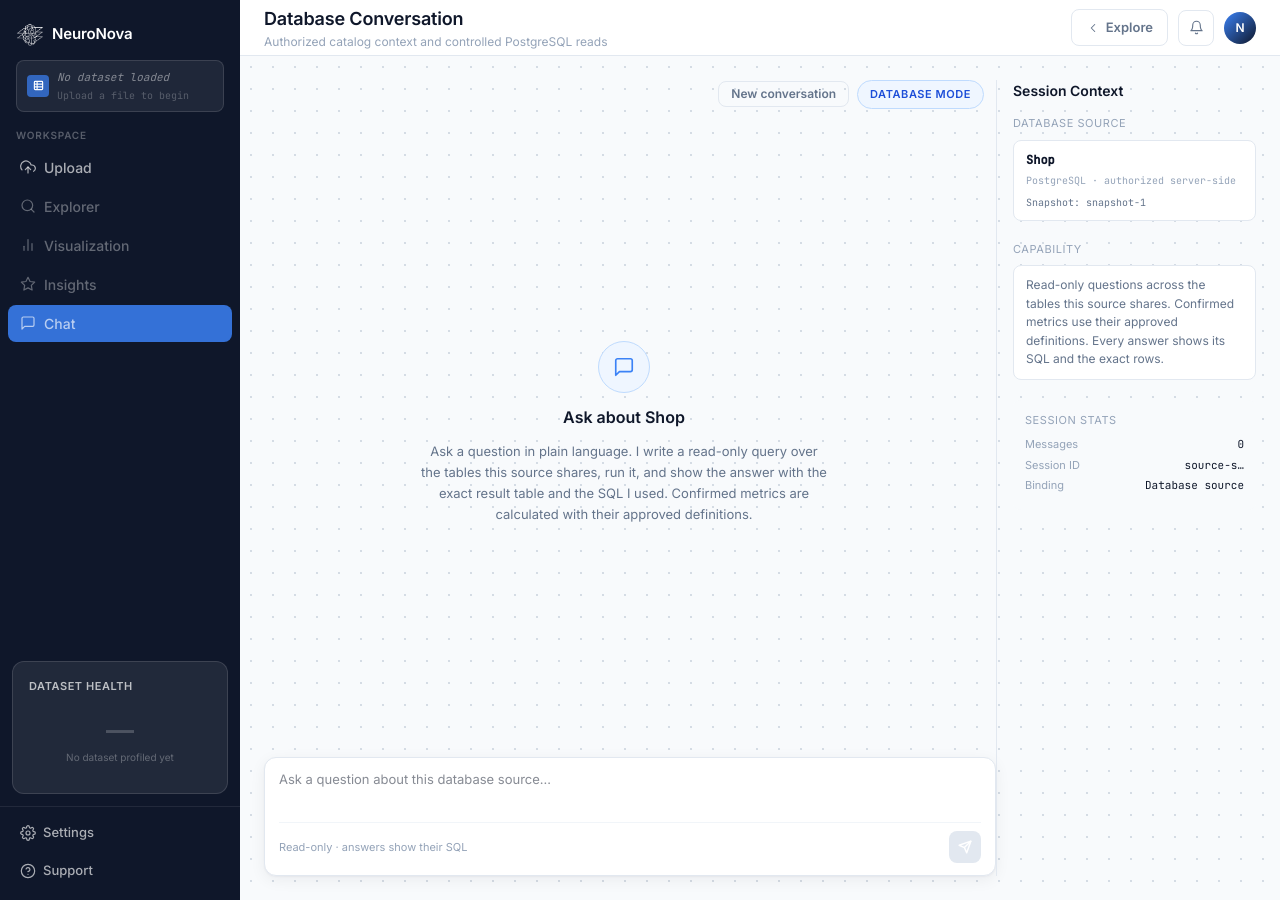
it: keeps what the user typed meanwhile, and typing dismisses the notice (W6.7)
Type "first" into the text box named "Database question" at (630, 790), box top-left (279, 770), bottom-right (981, 809)
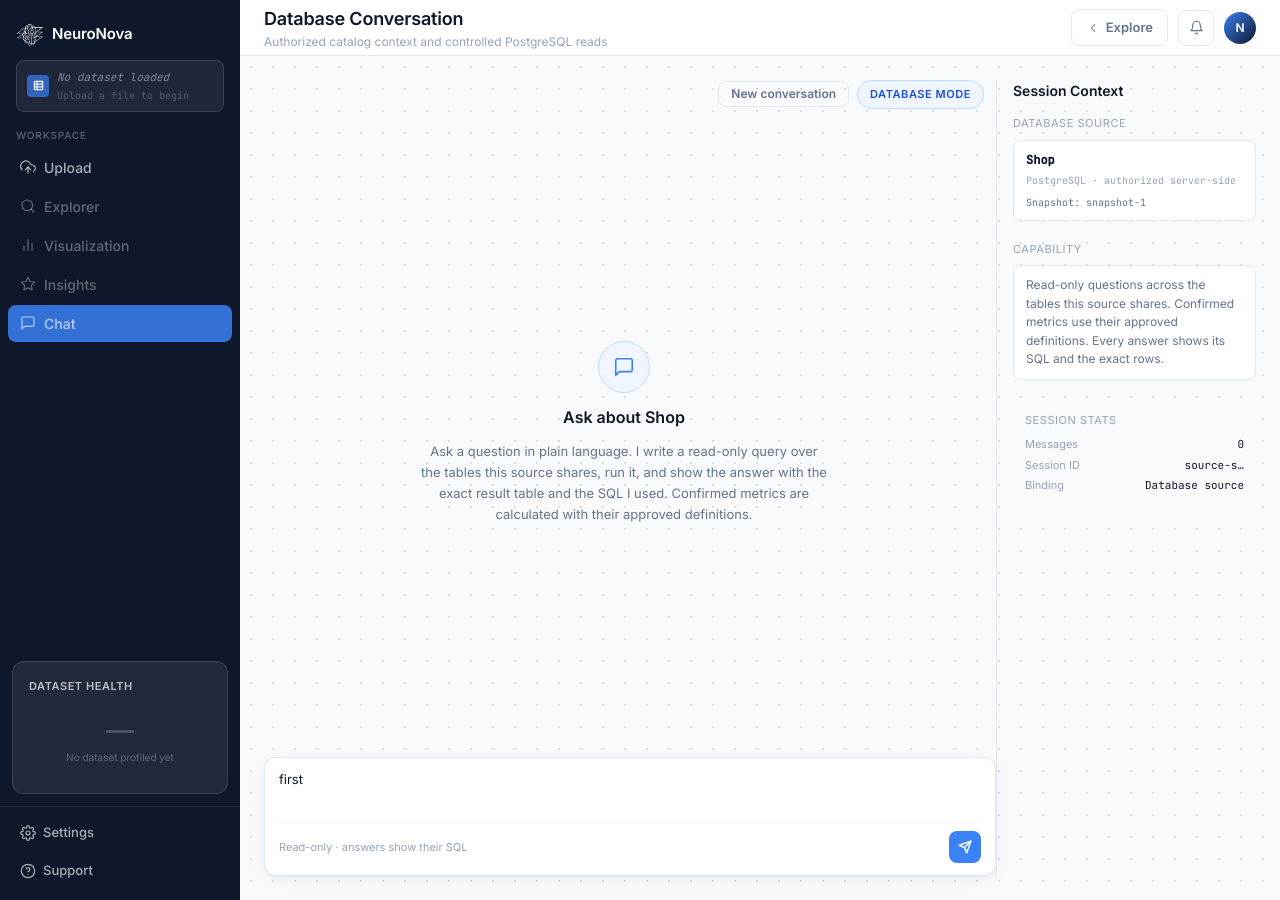
Click the button named "Send database question" at (965, 847), box top-left (949, 831), bottom-right (981, 863)
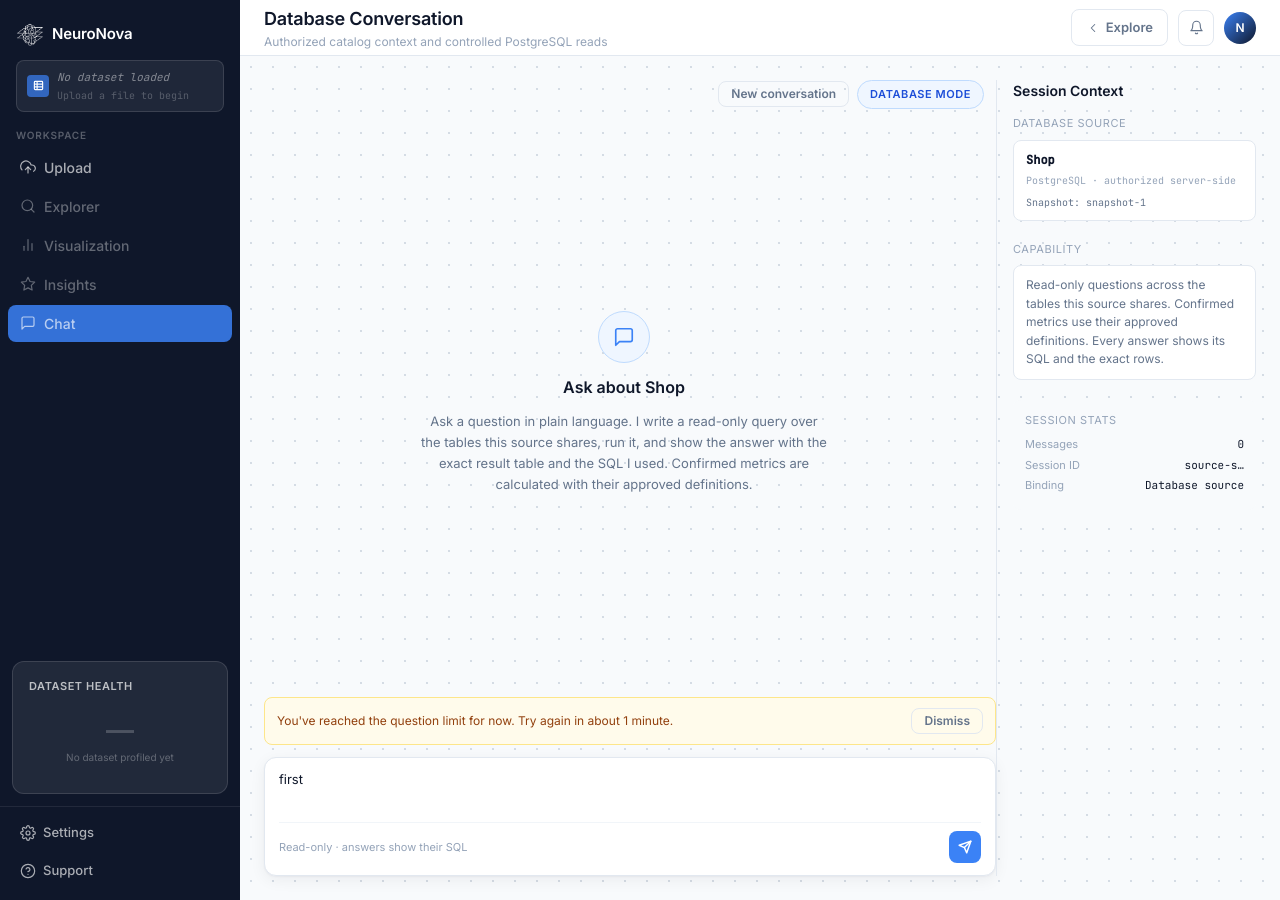
expect the message is shown: met, box top-left (264, 697), bottom-right (996, 745)
Replace the text in the text box named "Database question" with "second" at (630, 790), box top-left (279, 770), bottom-right (981, 809)
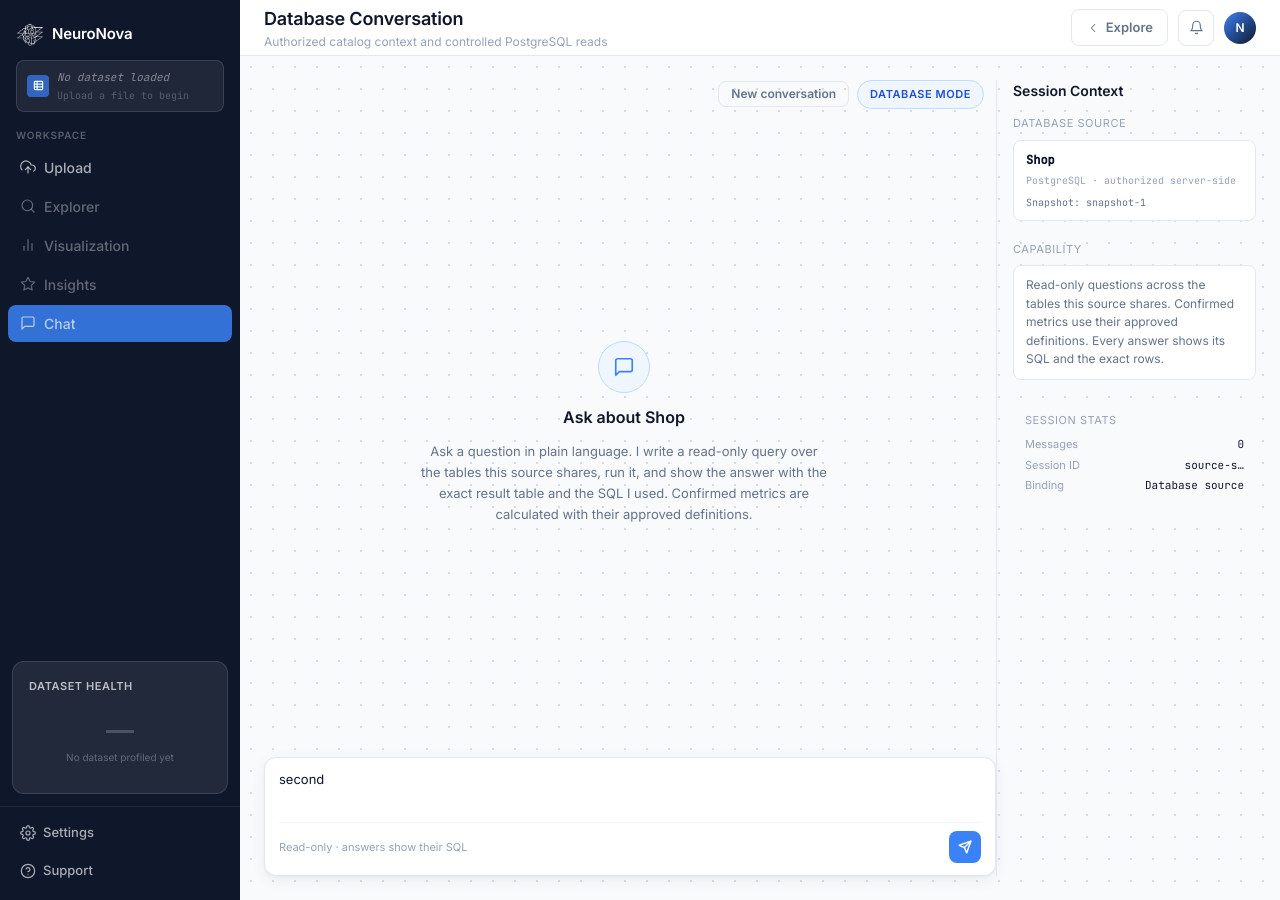
expect the message "You've reached the question limit for now. Try again in about 1 minute. Dismiss" is gone: met
